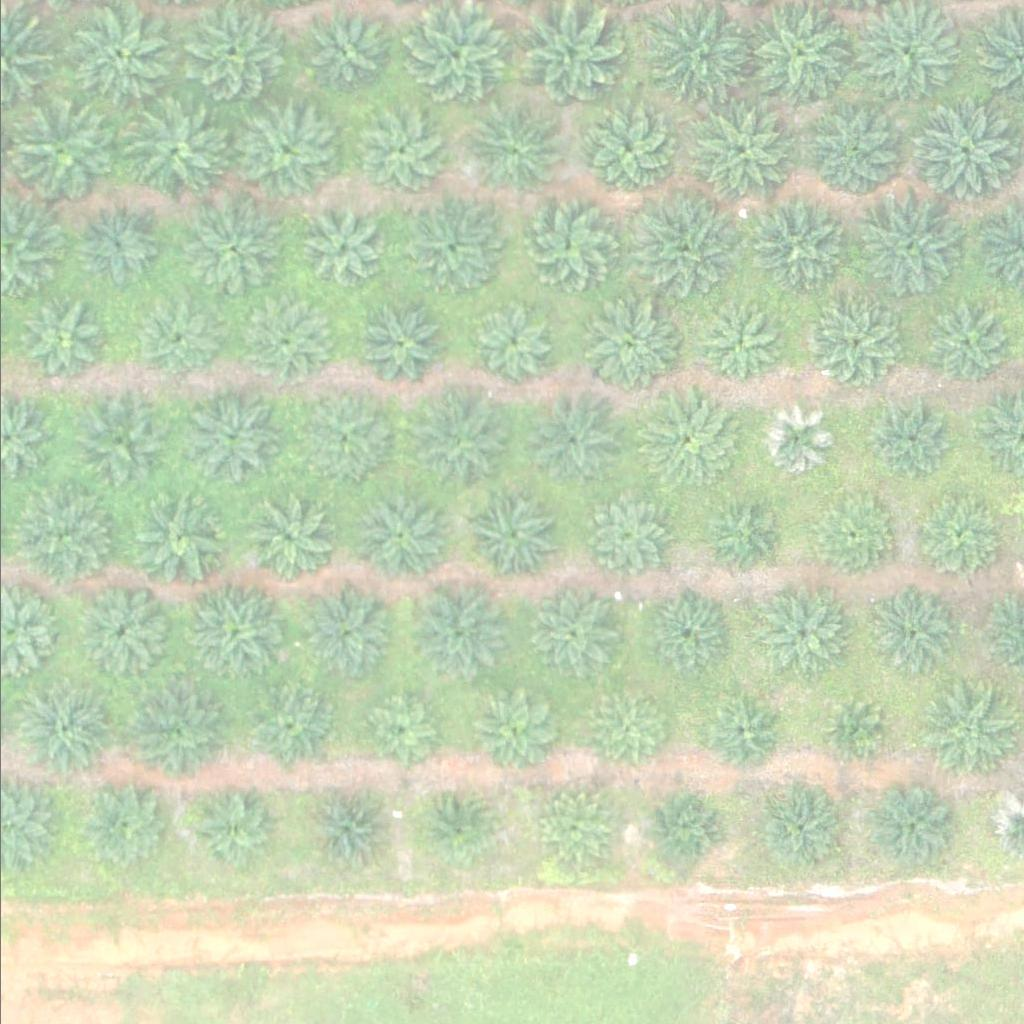Kelapa_Sawit: (641, 4, 755, 117), (851, 191, 964, 304), (625, 191, 739, 303), (907, 98, 1020, 210), (747, 197, 848, 297), (638, 395, 739, 495), (404, 578, 505, 678), (573, 483, 674, 583), (463, 483, 564, 583), (523, 389, 624, 489), (182, 202, 283, 302), (463, 100, 564, 200), (235, 101, 336, 201), (118, 101, 219, 201), (181, 5, 282, 105), (70, 392, 171, 492), (17, 487, 118, 587), (12, 685, 113, 785), (804, 101, 904, 201), (687, 103, 787, 203), (916, 684, 1016, 784), (124, 681, 224, 781), (185, 581, 285, 681), (128, 487, 228, 587), (408, 392, 508, 492), (181, 387, 281, 487), (580, 297, 680, 397), (518, 196, 618, 296), (402, 200, 502, 300), (577, 100, 677, 200), (15, 102, 115, 202), (805, 491, 894, 579), (638, 593, 727, 681), (73, 589, 162, 677), (699, 492, 787, 580), (181, 783, 269, 871), (908, 494, 996, 582), (864, 782, 952, 870), (753, 783, 841, 871), (244, 686, 332, 774), (525, 588, 613, 676), (300, 587, 388, 675), (463, 300, 551, 388), (299, 9, 387, 97), (472, 684, 560, 771), (300, 787, 388, 874), (916, 298, 1004, 385), (806, 301, 894, 388), (863, 589, 951, 676), (753, 590, 841, 677), (352, 492, 440, 579), (241, 495, 329, 582), (292, 395, 380, 482), (300, 207, 388, 294), (356, 109, 444, 196), (80, 783, 168, 870), (701, 307, 777, 382), (358, 309, 434, 384), (247, 307, 323, 382), (77, 210, 153, 285), (24, 304, 100, 379), (701, 697, 776, 772), (359, 695, 434, 770), (538, 787, 613, 862), (646, 794, 721, 869), (869, 401, 944, 476), (755, 403, 830, 478), (590, 689, 665, 764), (133, 299, 208, 374), (427, 792, 490, 855), (818, 699, 881, 762)
